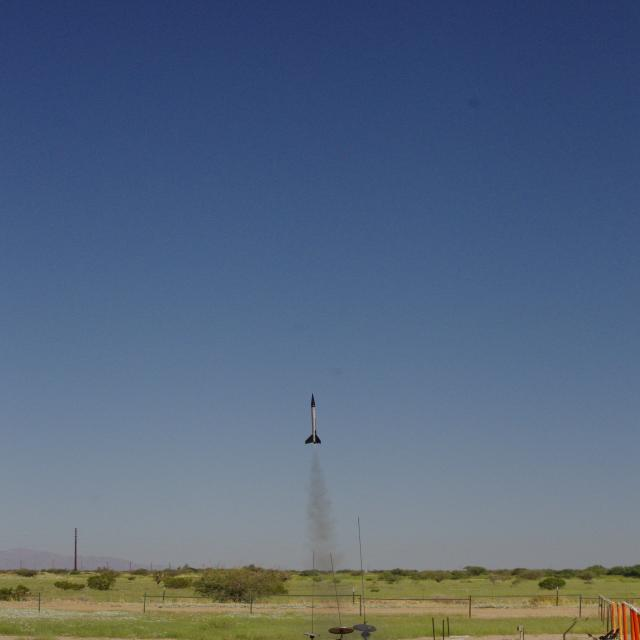Rocket: (305, 393, 322, 445)
